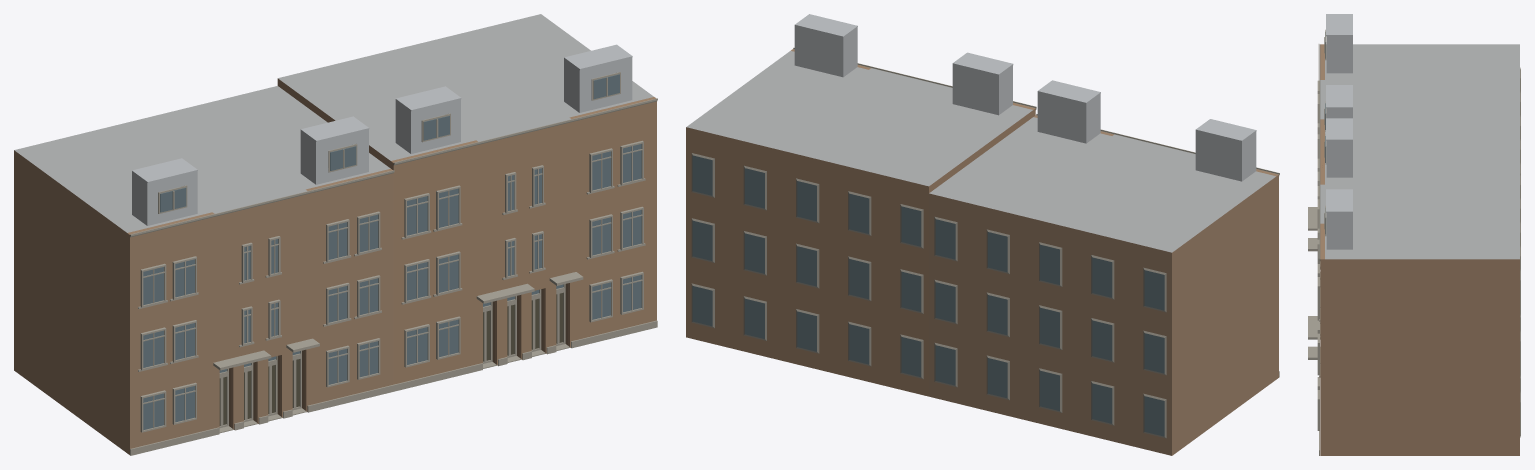
File: chunk-face-andringa-4-32-r1.glb
3 views of the same model, side by side, from view 1: azimuth 30°, elevation 25°; view 2: azimuth 150°, elevation 25°; view 3: azimuth 270°, elevation 25° (orthographic). The views are drawn at different scales.
Visible parts, largest first — view 1: face-andringa-4-32-r1; view 2: face-andringa-4-32-r1; view 3: face-andringa-4-32-r1.
Boxes of the visible parts, x1,y1,x2,y2 form: face-andringa-4-32-r1: (14,14,657,455); face-andringa-4-32-r1: (686,14,1279,455); face-andringa-4-32-r1: (1308,14,1520,455).
Bounding box in the file's own units: 25.62 × 12.7 × 10.39.
